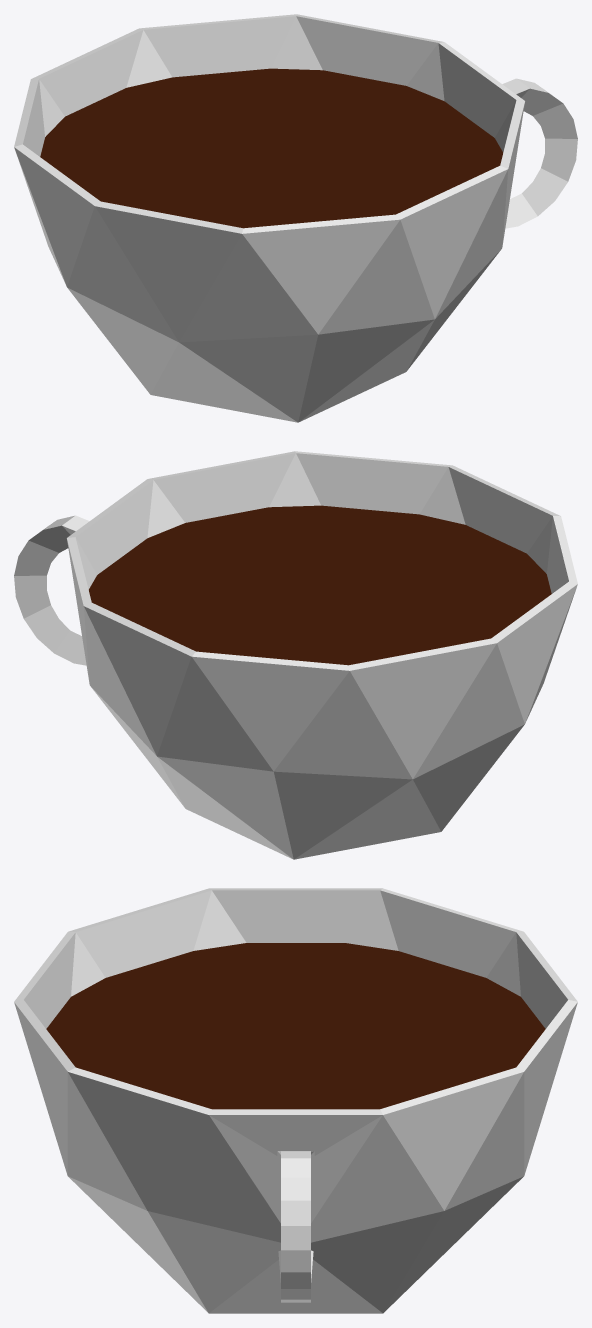
The model's file is Coffee.fbx.
The picture shows the model from 3 angles, top to bottom: view 1: azimuth 30°, elevation 25°; view 2: azimuth 150°, elevation 25°; view 3: azimuth 270°, elevation 25°; orthographic projection. The views are drawn at different scales.
Visible parts, largest first — view 1: Icosphere; view 2: Icosphere; view 3: Icosphere.
Boxes of the visible parts, <box> form: Icosphere: <box>14,14,577,422</box>; Icosphere: <box>14,451,577,859</box>; Icosphere: <box>14,888,577,1313</box>.
Size of the model in its own units: 236 by 107 by 207.
